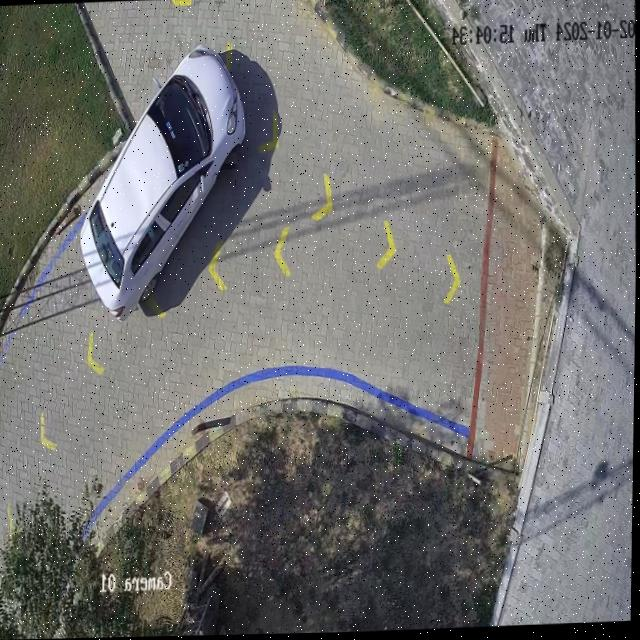car: (81, 45, 245, 321)
